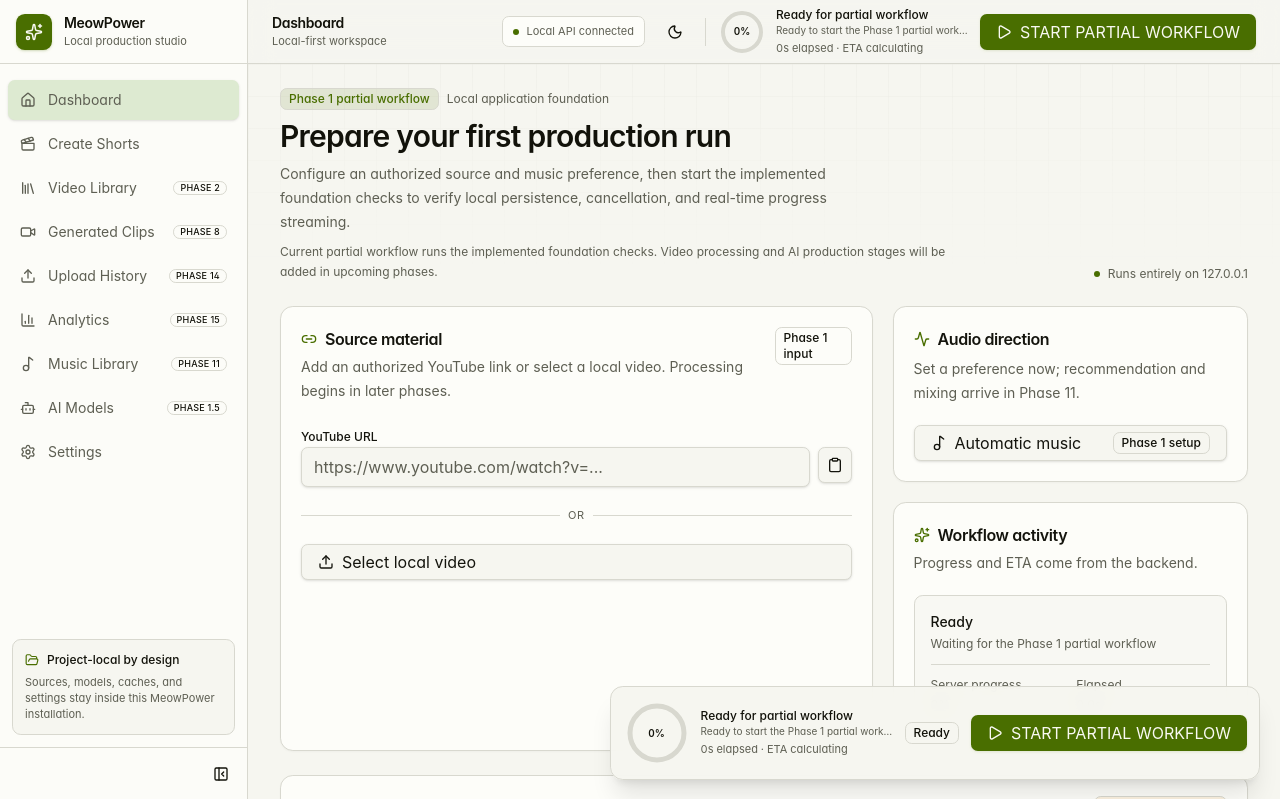
Test: MeowPower Phase 1 interface › collapses the sidebar through an accessible control
Click the button named "Collapse sidebar".
click(221, 774)  # box [203,756,239,792]
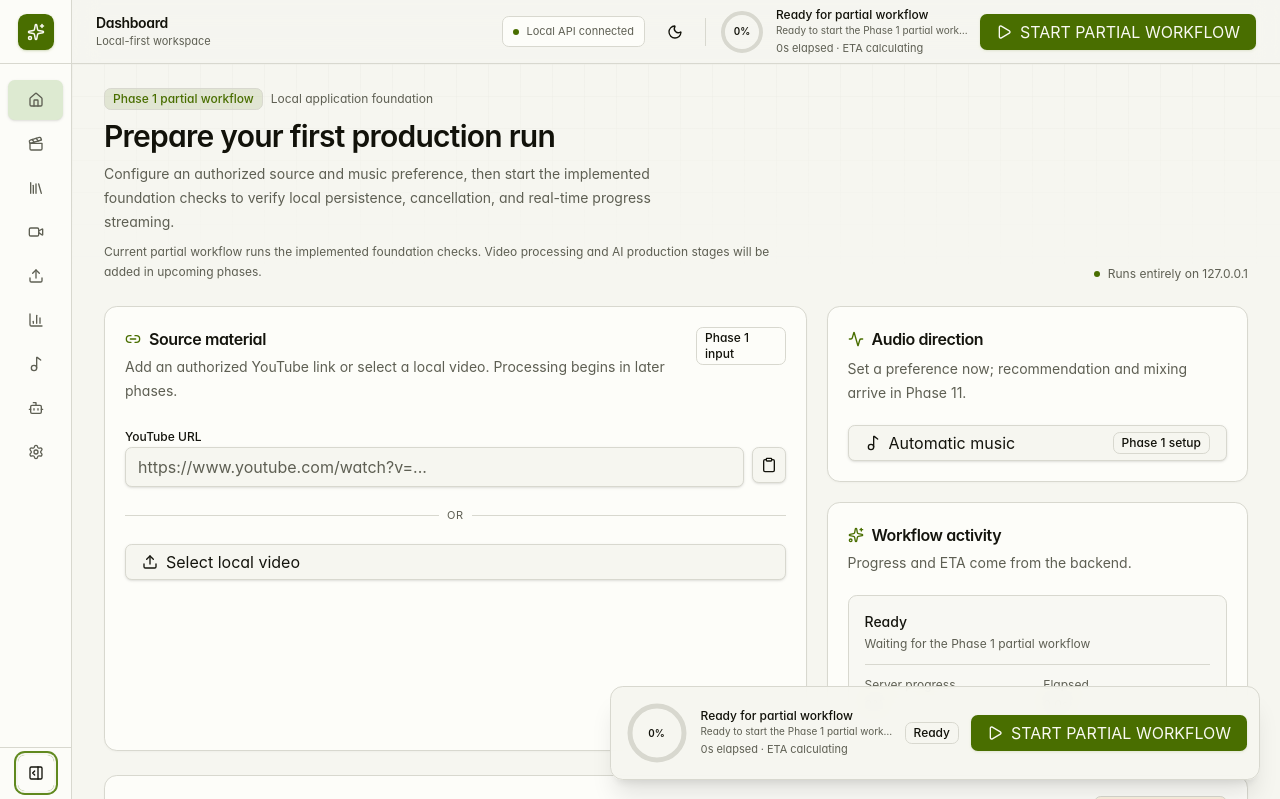
Check: the button named "Expand sidebar" is shown, box [18,755,54,791]
